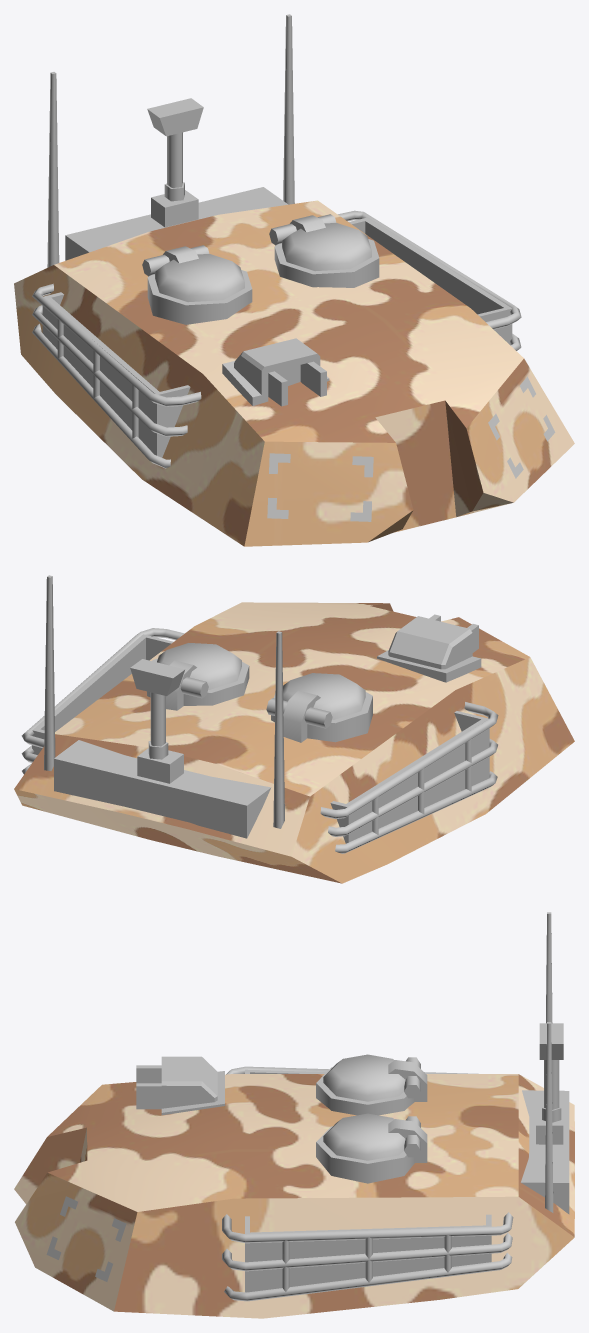
The model's file is Tank_tower_006.fbx.
3 renders of one model, top to bottom at view 1: azimuth 30°, elevation 25°; view 2: azimuth 150°, elevation 25°; view 3: azimuth 270°, elevation 25°, orthographic. The views are drawn at different scales.
Visible parts, largest first — view 1: Tank_tower_006; view 2: Tank_tower_006; view 3: Tank_tower_006.
Part boxes in pixels (box(x1,y1,x2,y2)): Tank_tower_006: box(14, 14, 574, 546); Tank_tower_006: box(14, 575, 574, 883); Tank_tower_006: box(14, 912, 574, 1318).
Size of the model in its own units: 408 by 562 by 315.
